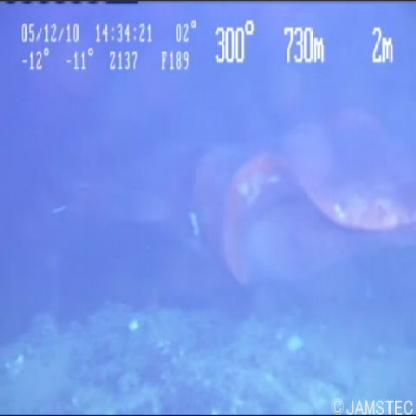Bio: (75, 100, 416, 296)
